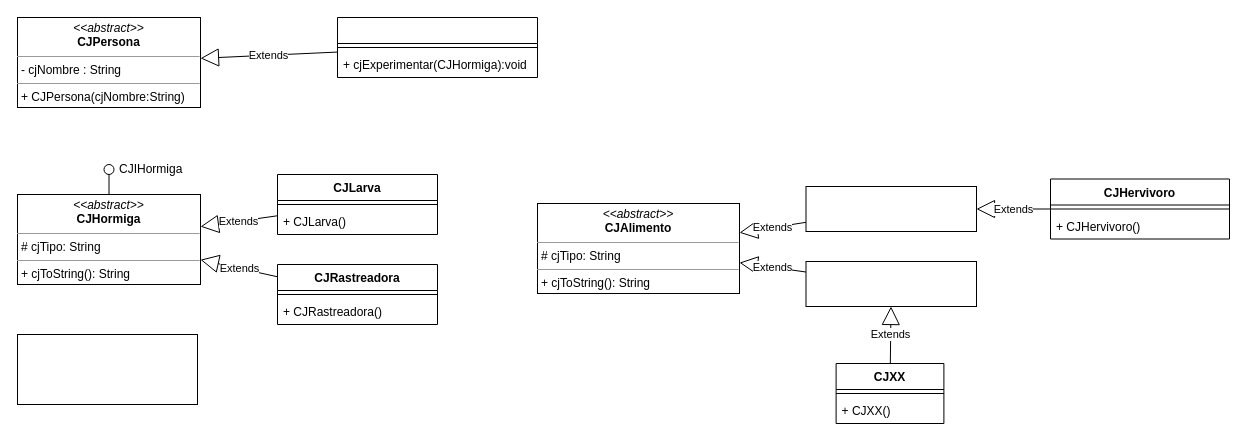
Image size: 1247x444. Some labels were removed from this diagram. Here are the shapes that lost their labels. From the top down, the box of each, then its label:
(336, 16, 538, 78): CJEntomologo
(805, 186, 976, 232): <<abstract>> CJIngestaNativa
(805, 260, 976, 306): <<abstract>> CJGenoAlimento
(16, 334, 198, 404): <<Interface>> CJIHormiga + cjComer(CJAlimento): boolean
